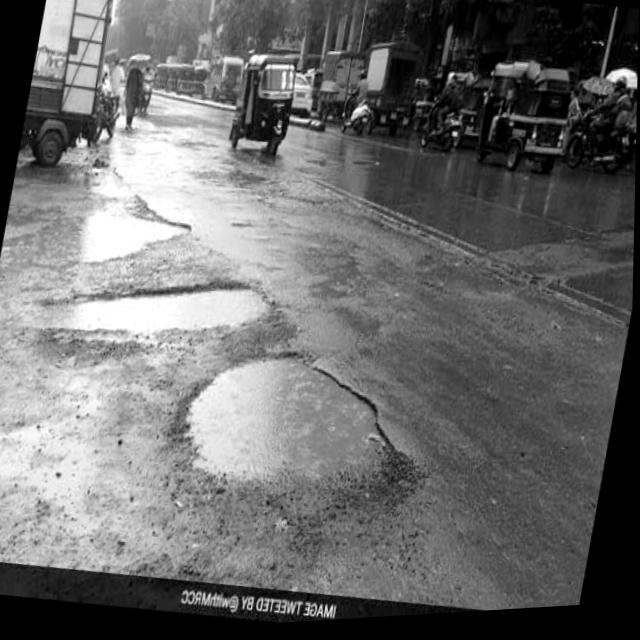pathole: (0, 264, 477, 554)
